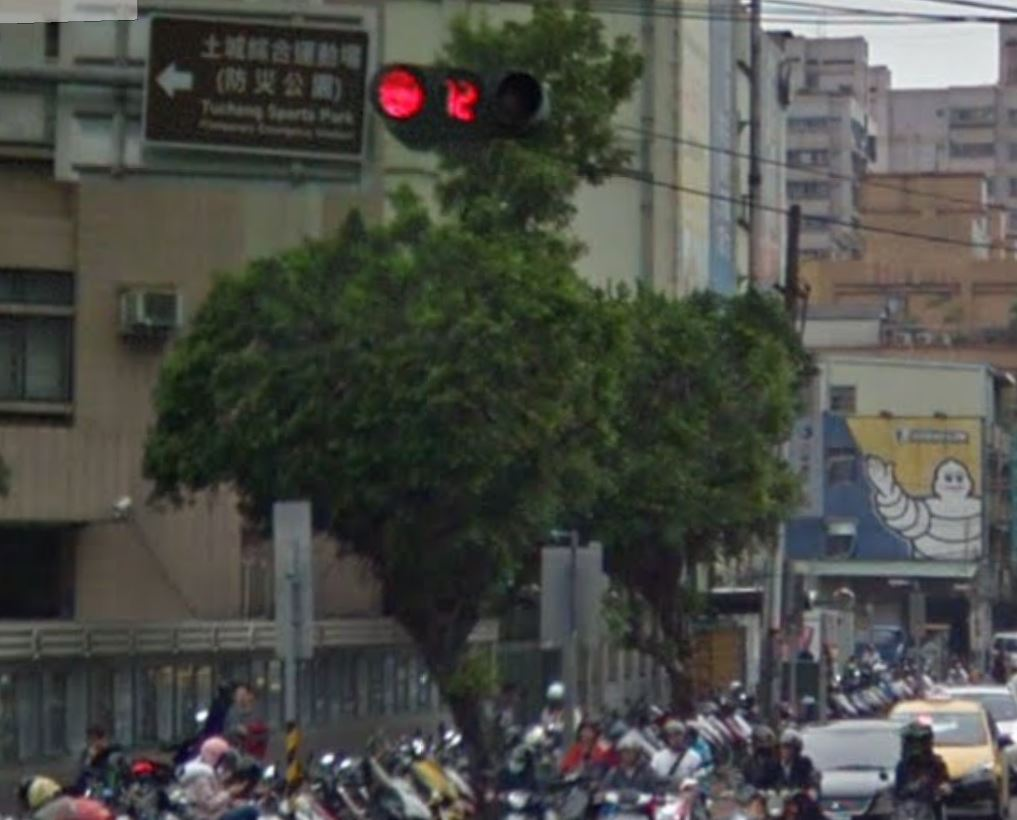Traffic_light_red: (369, 59, 548, 133)
